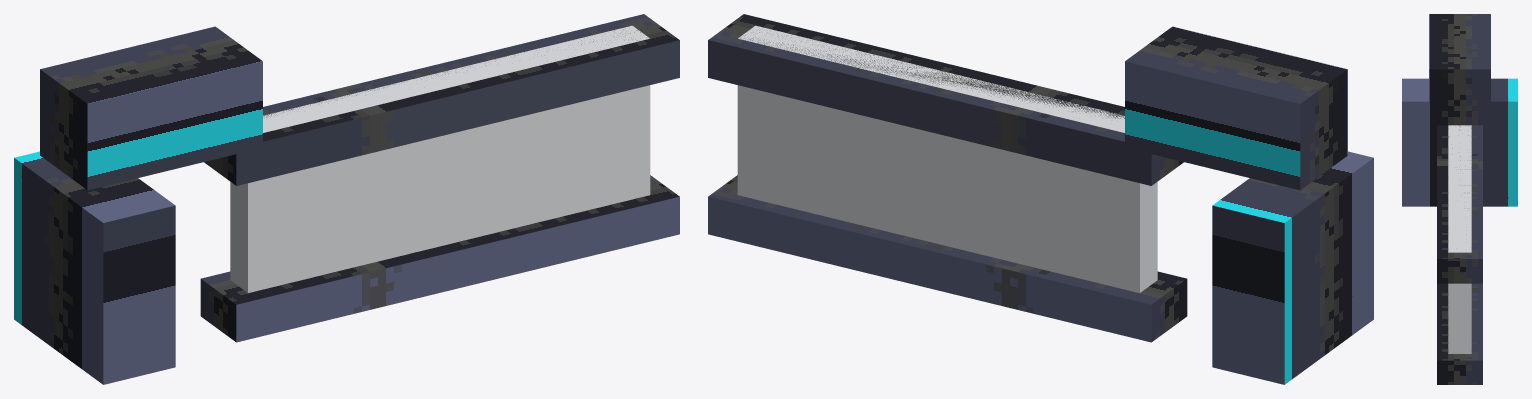
Rendered from nav_blade.glb.
3 renders of one model, left to right at view 1: azimuth 30°, elevation 25°; view 2: azimuth 150°, elevation 25°; view 3: azimuth 270°, elevation 25°, orthographic. The views are drawn at different scales.
Parts seen in each view (by area): view 1: nav_blade; view 2: nav_blade; view 3: nav_blade.
Boxes of the visible parts, box(x1,y1,x2,y2) form: nav_blade: box(14, 14, 679, 384); nav_blade: box(708, 14, 1373, 384); nav_blade: box(1402, 14, 1517, 384).
Size of the model in its own units: 1.17 by 0.52 by 0.3.
Materials: 5 (4 with a texture image).
